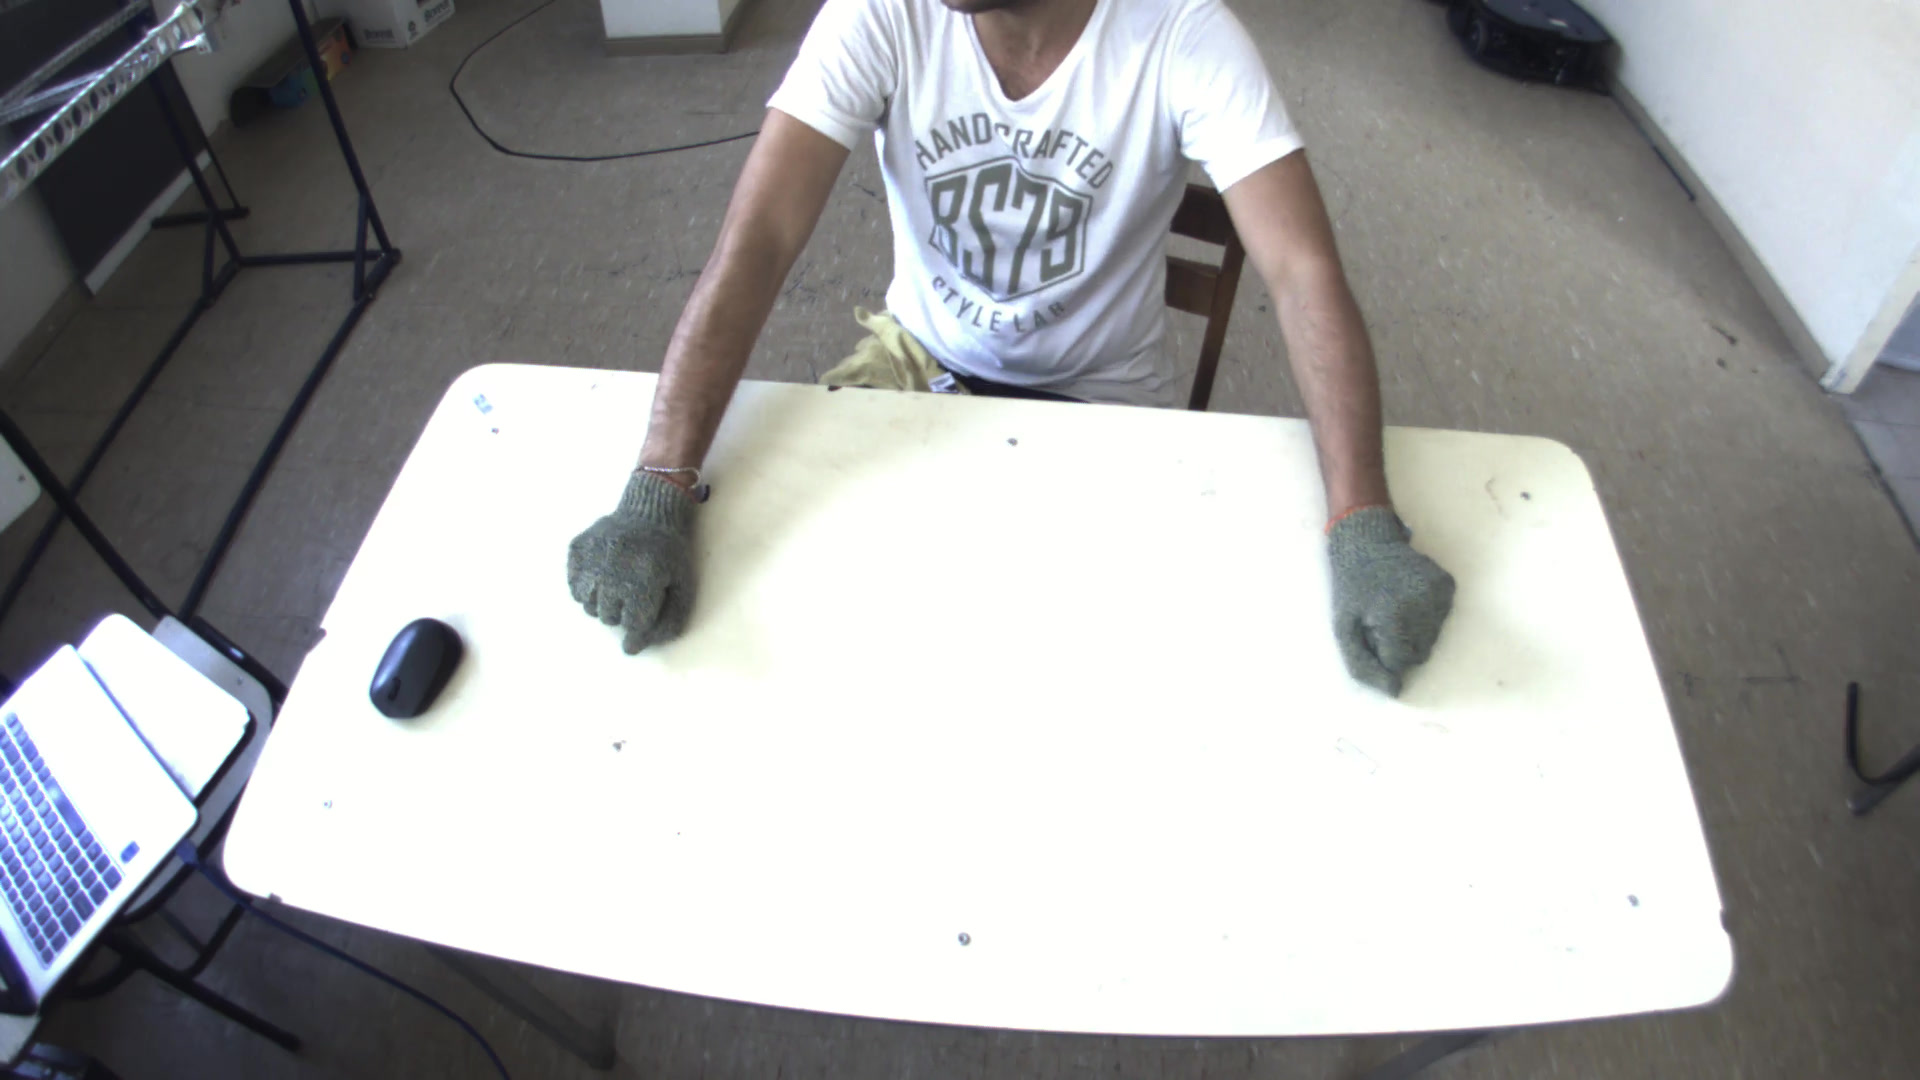hand: (550, 460, 716, 647), (1311, 502, 1472, 686)
